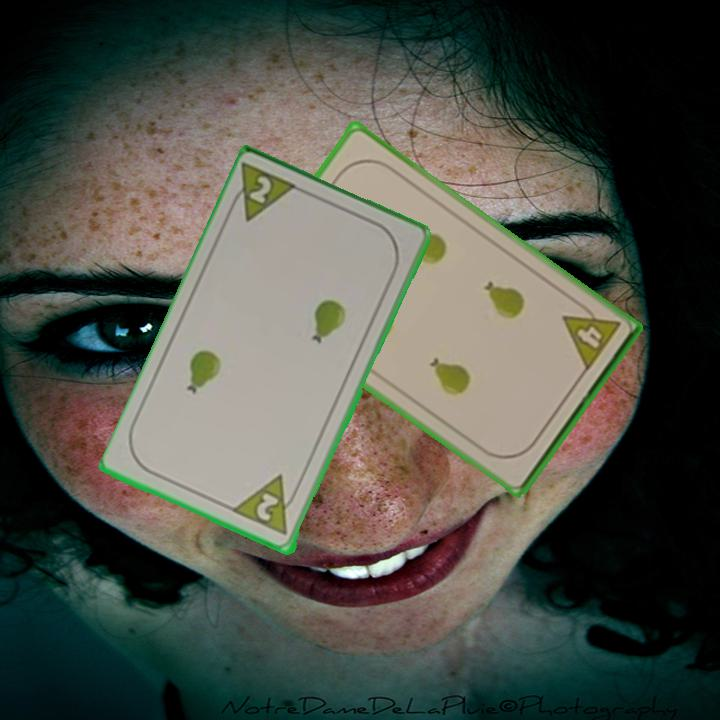2p: (224, 160, 303, 226), (231, 472, 304, 539)
4p: (558, 297, 623, 375)
